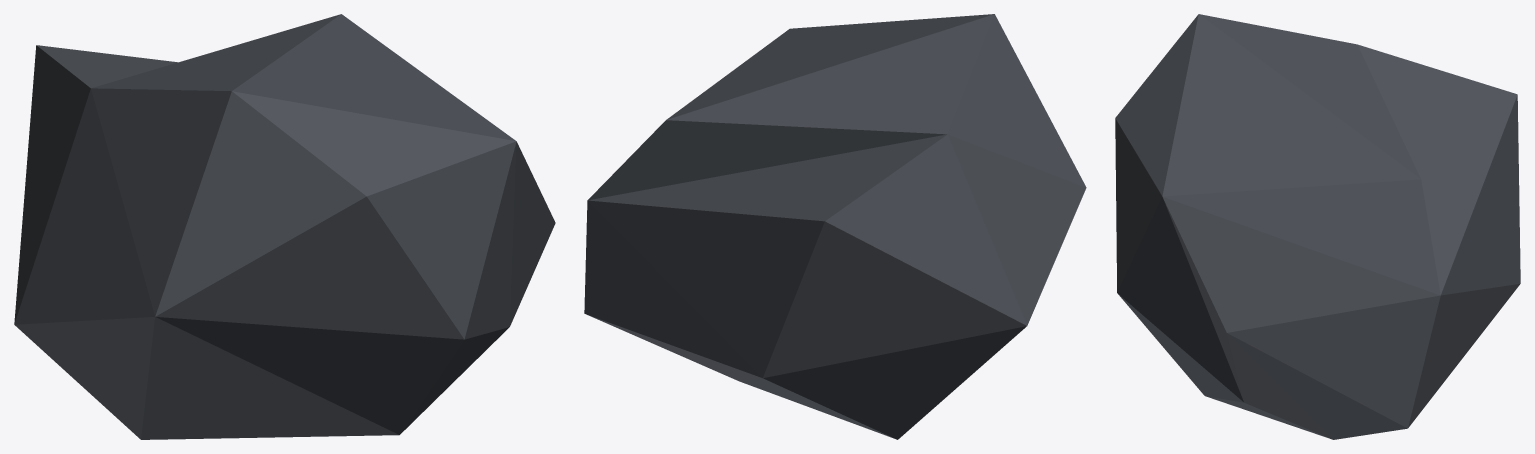
The model's file is Rock_Sm_1.fbx.
The picture shows the model from 3 angles, left to right: view 1: azimuth 30°, elevation 25°; view 2: azimuth 150°, elevation 25°; view 3: azimuth 270°, elevation 25°; orthographic projection. The views are drawn at different scales.
Visible parts, largest first — view 1: Group64601; view 2: Group64601; view 3: Group64601.
Boxes of the visible parts, x1,y1,x2,y2 form: Group64601: (14,14,555,439); Group64601: (584,14,1086,439); Group64601: (1115,14,1520,439).
Bounding box in the file's own units: 104 × 88.86 × 94.68.
